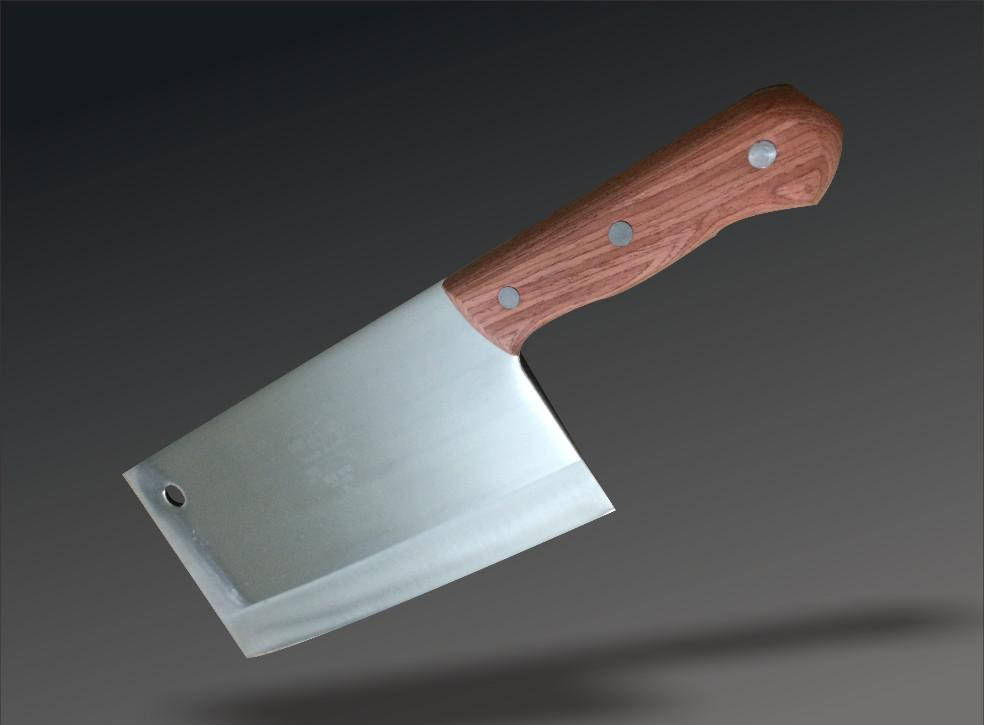knief: (123, 114, 857, 652)
